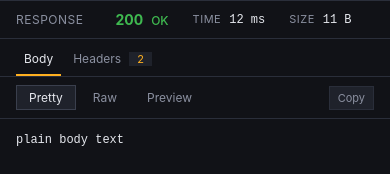
Test: ResponseViewer render branches › toggles between Body and Headers tabs via uiStore.activeResponseTab (Req 4.3)
Expected: the element named "Response body view" is shown, [16,85,205,110]
Expected: the text "plain body text" is shown, [16,133,124,147]
Click the tab "Headers 2" at (113, 60), box [65,43,160,76]
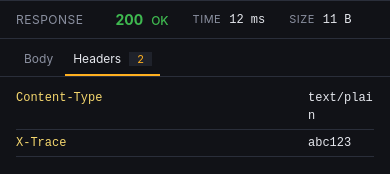
Expected: the text "abc123" is shown, [308,136,351,150]
